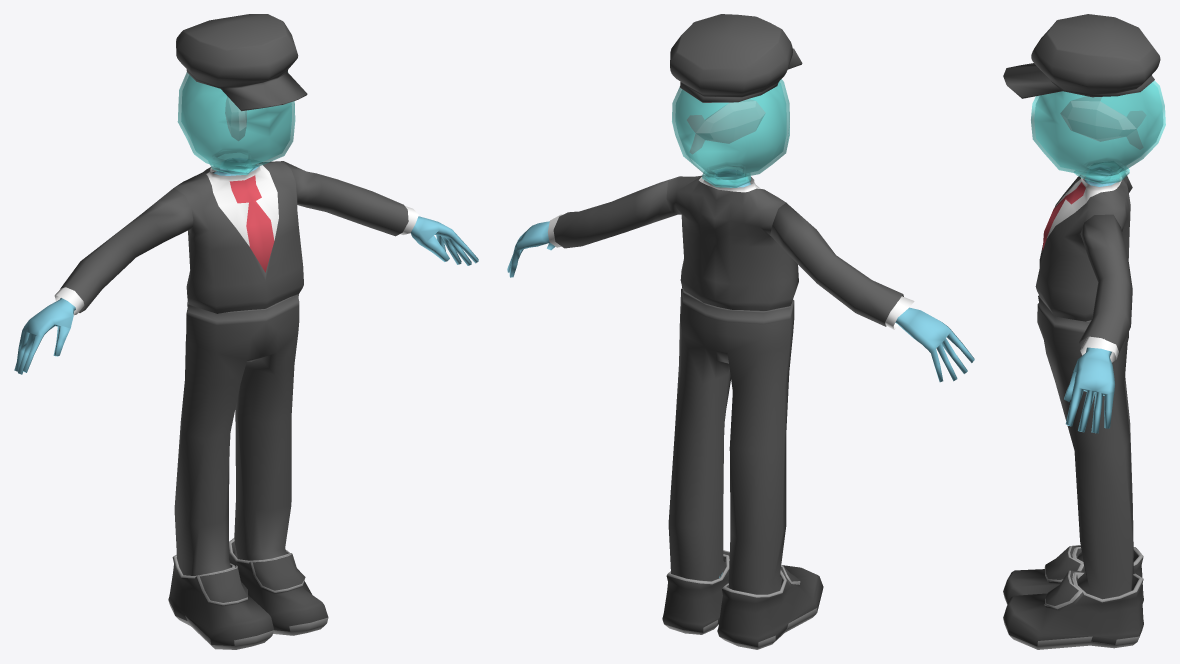
File: pers1.fbx
3 renders of one model, left to right at view 1: azimuth 30°, elevation 25°; view 2: azimuth 150°, elevation 25°; view 3: azimuth 270°, elevation 25°, orthographic.
Visible parts, largest first — view 1: shtany, shoes, shapka, glass, pers; view 2: shtany, glass, shapka, shoes, pers, fish; view 3: shtany, shoes, glass, shapka, pers, fish.
Boxes of the visible parts, left/top/right/bottom form: shtany: left=54, top=161, right=418, bottom=575; shoes: left=168, top=538, right=328, bottom=649; shapka: left=176, top=14, right=307, bottom=111; glass: left=177, top=72, right=295, bottom=175; pers: left=14, top=158, right=478, bottom=374; shtany: left=547, top=175, right=914, bottom=594; glass: left=672, top=79, right=789, bottom=187; shapka: left=670, top=14, right=802, bottom=102; shoes: left=662, top=550, right=823, bottom=649; pers: left=507, top=169, right=974, bottom=577; fish: left=687, top=99, right=765, bottom=153; shtany: left=1035, top=173, right=1133, bottom=599; shoes: left=1003, top=545, right=1143, bottom=649; glass: left=1031, top=80, right=1165, bottom=184; shapka: left=1003, top=14, right=1160, bottom=98; pers: left=1064, top=164, right=1119, bottom=433; fish: left=1060, top=96, right=1145, bottom=149.
Size of the model in its own units: 296 by 366 by 91.08.
